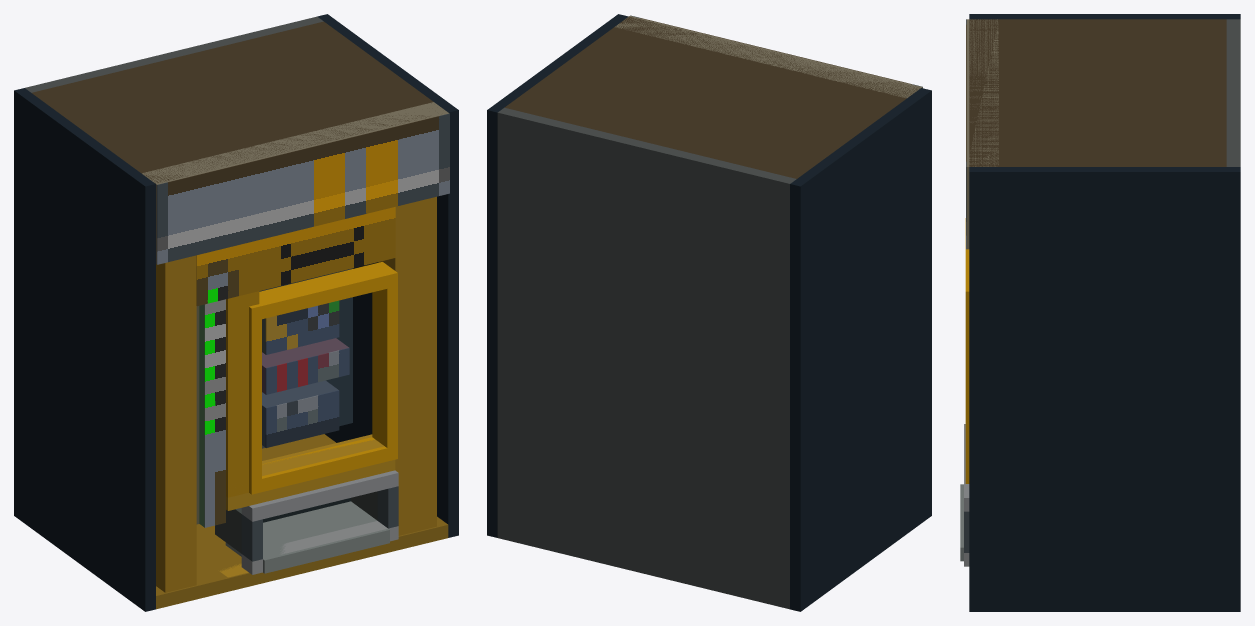
Rendered from CMU3DVendorElectronicsCloud.glb.
The picture shows the model from 3 angles, left to right: view 1: azimuth 30°, elevation 25°; view 2: azimuth 150°, elevation 25°; view 3: azimuth 270°, elevation 25°; orthographic projection. The views are drawn at different scales.
Visible parts, largest first — view 1: left full-depth cabinet wall, roof, yellow-striped header original face, left gold door stile, right gold door stile, right full-depth cabinet wall, gold upper lintel original face, base floor, electronics pickup floor, original green selector strip original face, gold screen left stile, yellow-striped header (+19 smaller); view 2: solid rear wall, left full-depth cabinet wall, roof, right full-depth cabinet wall, yellow-striped header; view 3: right full-depth cabinet wall, roof, yellow-striped header, solid rear wall, left full-depth cabinet wall, gold display surround right.
Part boxes in pixels (x1,y1,x2,y2): left full-depth cabinet wall: [14, 88, 155, 611]; roof: [32, 21, 433, 183]; yellow-striped header original face: [157, 113, 449, 264]; left gold door stile: [156, 255, 196, 592]; right gold door stile: [378, 196, 436, 535]; right full-depth cabinet wall: [317, 14, 458, 537]; gold upper lintel original face: [196, 207, 395, 306]; base floor: [156, 434, 448, 609]; electronics pickup floor: [225, 501, 389, 573]; original green selector strip original face: [204, 299, 225, 527]; gold screen left stile: [226, 291, 259, 497]; yellow-striped header: [142, 102, 449, 264]; solid rear wall: [497, 107, 796, 609]; left full-depth cabinet wall: [790, 88, 931, 611]; roof: [505, 16, 919, 178]; right full-depth cabinet wall: [487, 14, 628, 537]; yellow-striped header: [615, 15, 922, 97]; right full-depth cabinet wall: [969, 167, 1240, 611]; roof: [969, 19, 1226, 166]; yellow-striped header: [966, 19, 998, 249]; solid rear wall: [1226, 19, 1240, 166]; left full-depth cabinet wall: [969, 14, 1240, 19]; gold display surround right: [965, 305, 969, 470].
Size of the model in its own units: 0.9375 by 1.22 by 0.702.
28 materials, 6 textured.
